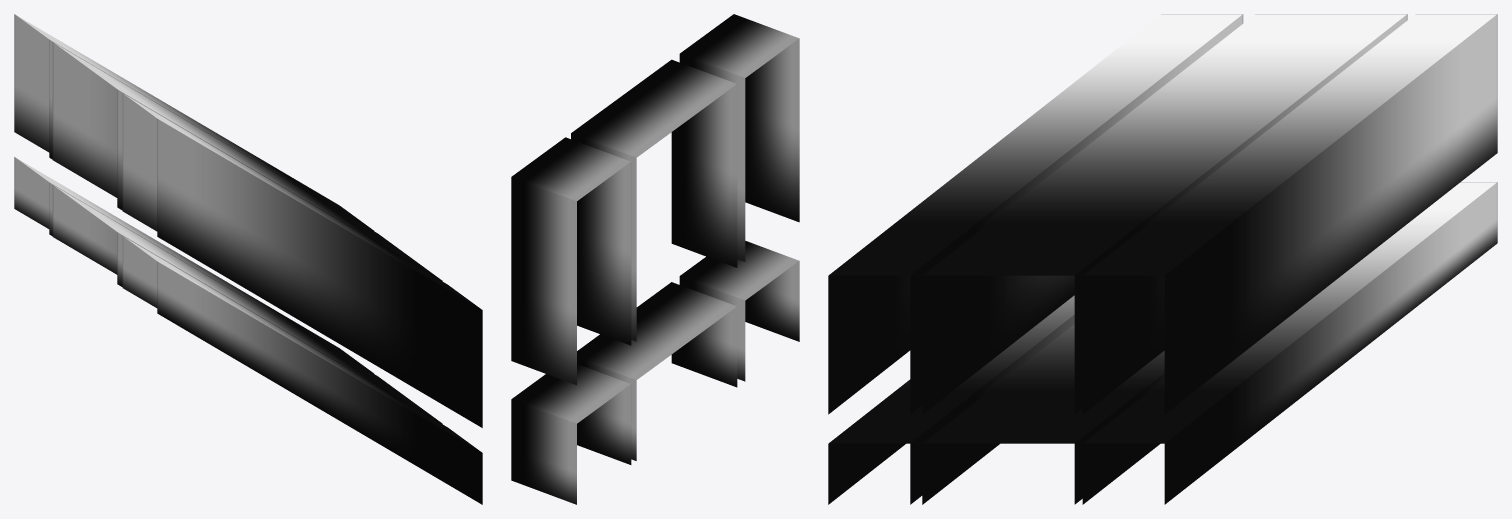
The model's file is LightBeam2.fbx.
The picture shows the model from 3 angles, left to right: view 1: azimuth 30°, elevation 25°; view 2: azimuth 150°, elevation 25°; view 3: azimuth 270°, elevation 25°; orthographic projection. The views are drawn at different scales.
Visible parts, largest first — view 1: LightBeams1; view 2: LightBeams1; view 3: LightBeams1.
Boxes of the visible parts, x1,y1,x2,y2 form: LightBeams1: [14, 14, 482, 504]; LightBeams1: [511, 14, 799, 504]; LightBeams1: [828, 14, 1497, 504].
Size of the model in its own units: 252 by 429 by 675.
